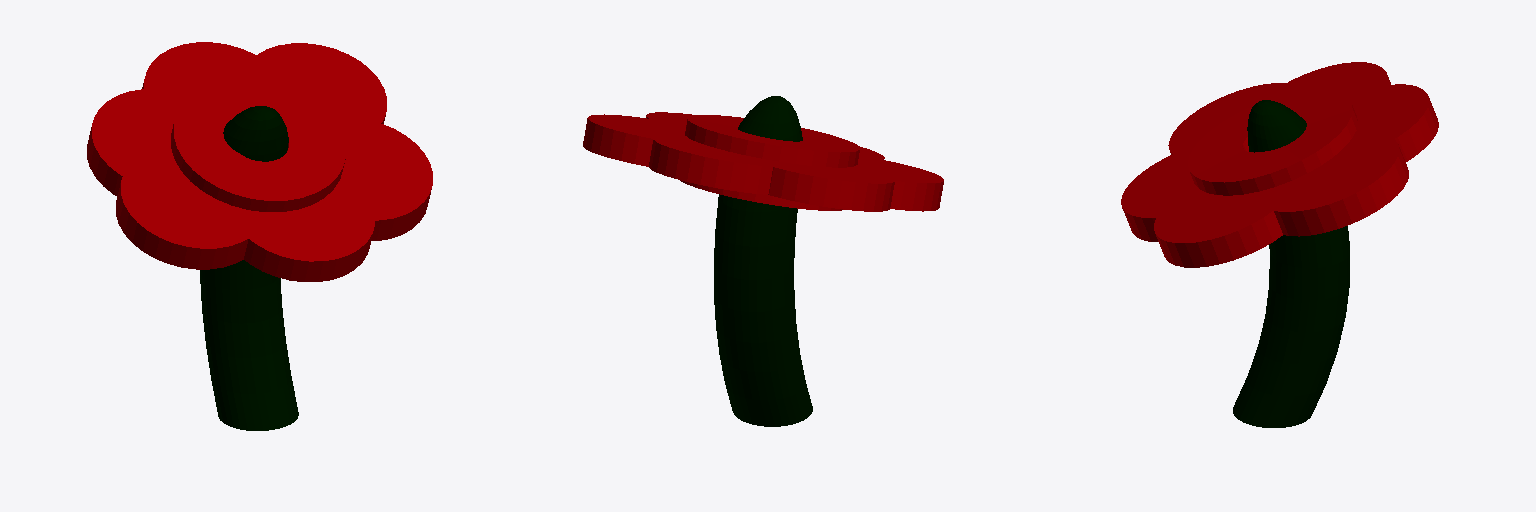
Rendered from Flower_1.obj.
The picture shows the model from 3 angles: view 1: azimuth 30°, elevation 25°; view 2: azimuth 150°, elevation 25°; view 3: azimuth 270°, elevation 25°; orthographic projection.
Parts seen in each view (by area): view 1: Flower_Sphere.001; view 2: Flower_Sphere.001; view 3: Flower_Sphere.001.
Boxes of the visible parts, box(x1,y1,x2,y2) form: Flower_Sphere.001: box(87, 42, 432, 430); Flower_Sphere.001: box(583, 96, 943, 426); Flower_Sphere.001: box(1121, 62, 1438, 427).
Size of the model in its own units: 2.33 by 2.36 by 2.18.